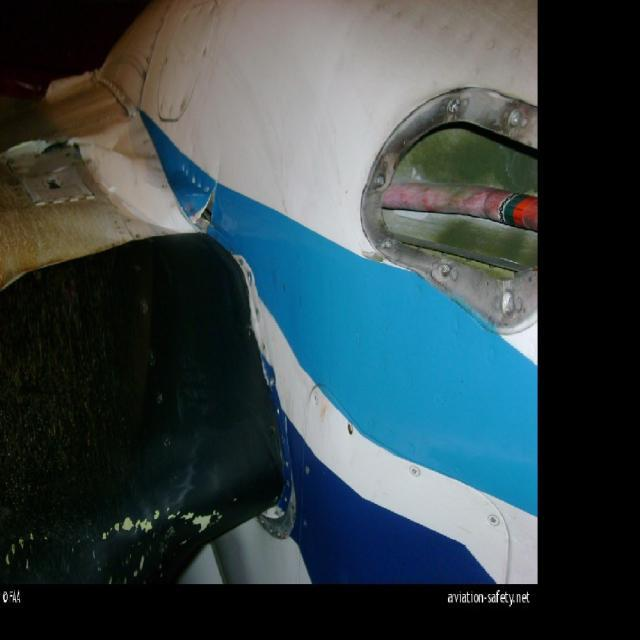crack: (190, 182, 224, 231)
